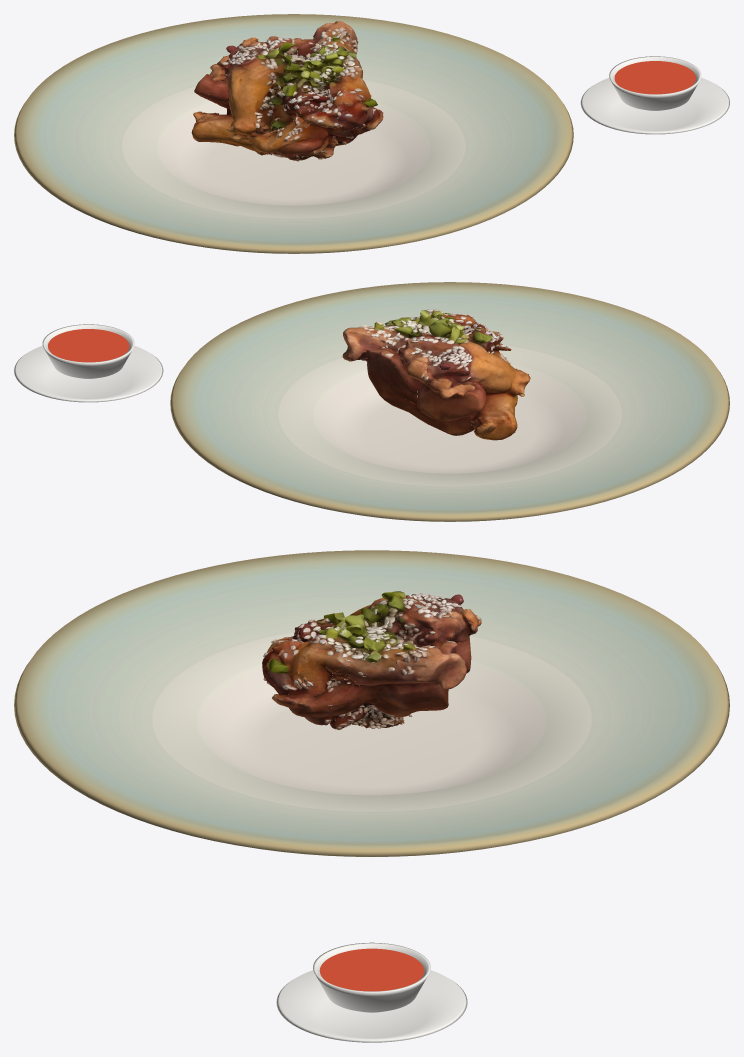
File: qanot.glb
3 views of the same model, one above another, from view 1: azimuth 30°, elevation 25°; view 2: azimuth 150°, elevation 25°; view 3: azimuth 270°, elevation 25° (orthographic). The views are drawn at different scales.
Visible parts, largest first — view 1: plate, chB, saucer, sauce, kosa; view 2: plate, chB, saucer, sauce, kosa; view 3: plate, chB, saucer, sauce, kosa.
Boxes of the visible parts, x1,y1,x2,y2 form: plate: [14, 14, 573, 253]; chB: [191, 21, 383, 161]; saucer: [580, 77, 729, 134]; sauce: [614, 61, 695, 94]; kosa: [609, 56, 701, 110]; plate: [170, 282, 729, 521]; chB: [342, 309, 530, 440]; saucer: [14, 345, 163, 402]; sauce: [48, 329, 129, 362]; kosa: [42, 324, 134, 378]; plate: [14, 550, 729, 856]; chB: [262, 591, 481, 730]; saucer: [276, 970, 467, 1042]; sauce: [319, 948, 424, 991]; kosa: [313, 942, 430, 1012].
Size of the model in its own units: 1.76 by 0.4215 by 1.27.
4 materials, 2 textured.
